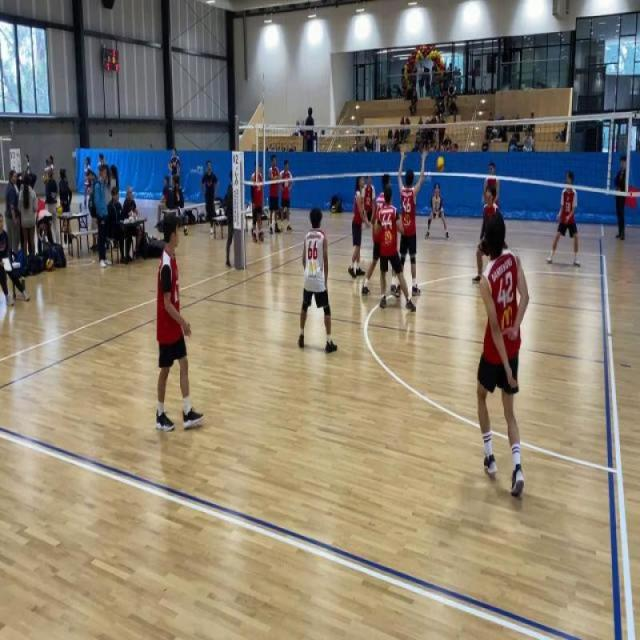volleyball: (435, 155, 446, 173), (46, 256, 54, 272), (56, 203, 64, 214), (183, 224, 189, 237), (148, 234, 154, 243), (42, 175, 47, 183), (331, 205, 336, 213), (156, 236, 162, 242), (169, 162, 173, 169)
